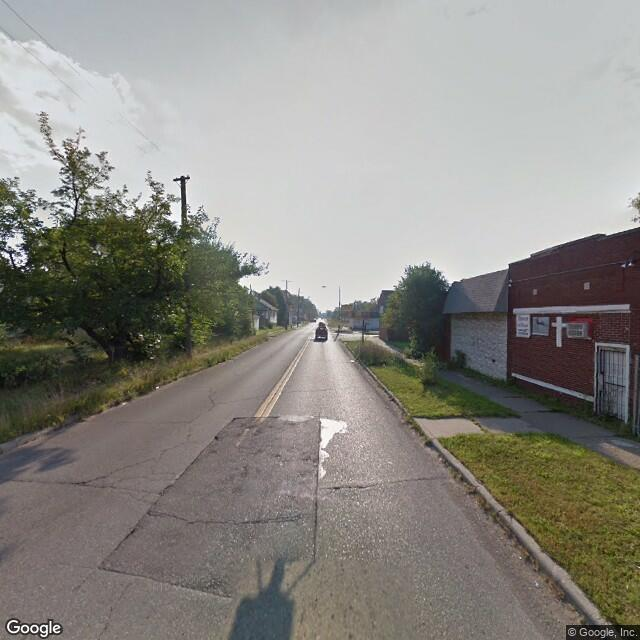litter: (529, 575, 548, 589), (148, 380, 168, 392)
